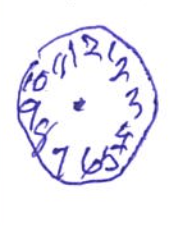1: (107, 39, 116, 63)
10: (21, 70, 48, 93)
11: (51, 51, 67, 79)
12: (67, 34, 104, 68)
2: (108, 56, 130, 82)
3: (124, 87, 143, 120)
4: (114, 120, 134, 155)
5: (100, 143, 128, 172)
6: (78, 146, 102, 178)
7: (51, 146, 69, 180)
8: (31, 116, 58, 158)
9: (18, 96, 42, 131)
contour: (14, 24, 160, 187)
